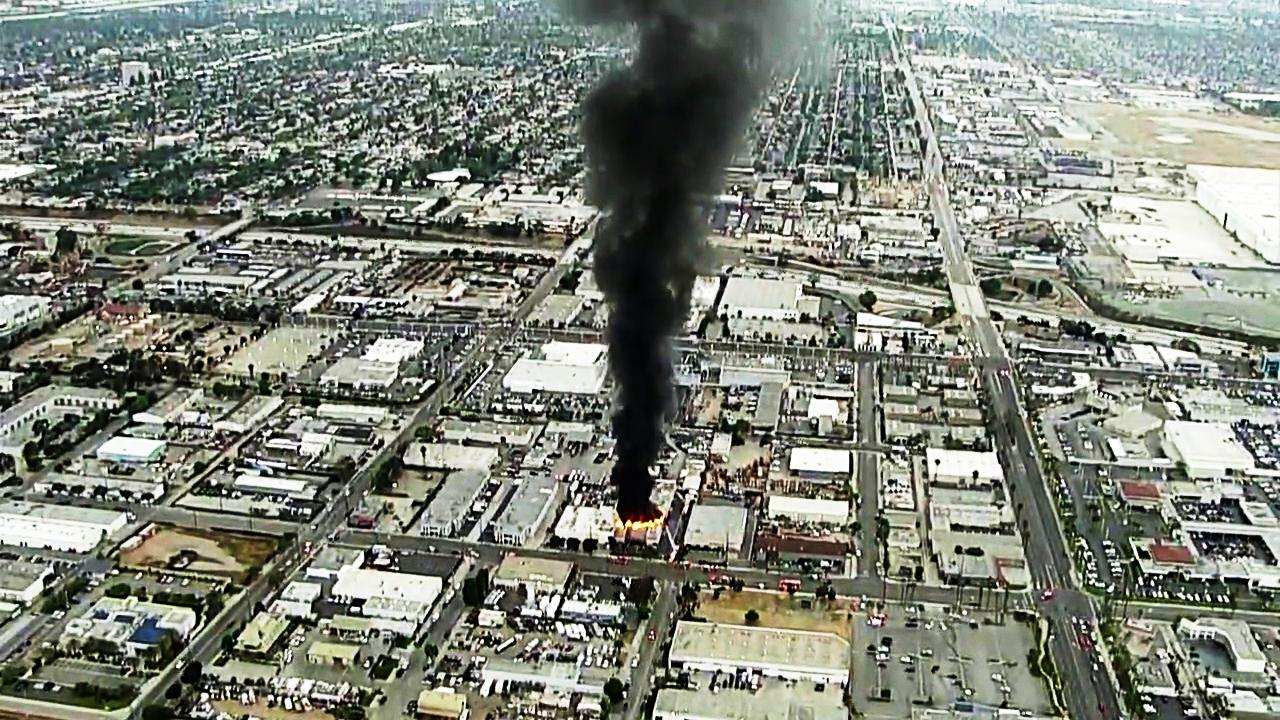smoke: (618, 49, 683, 510)
